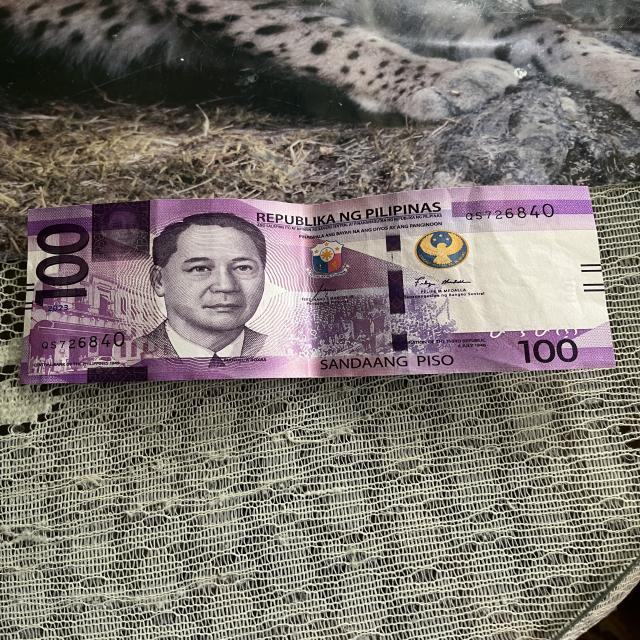concealed_value: (88, 200, 151, 261)
security_thread: (376, 188, 414, 375)
see_through_mark: (480, 322, 584, 343)
serial_number: (37, 327, 133, 355), (457, 198, 556, 224)
value: (34, 216, 89, 308)
